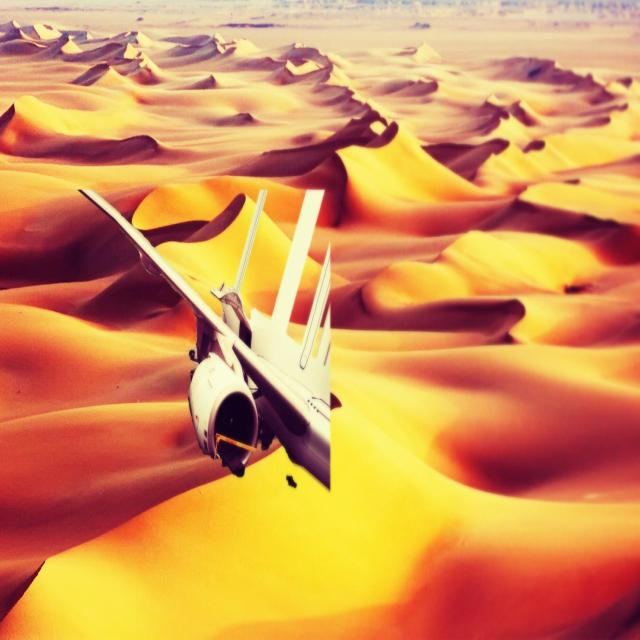airplane: (77, 186, 331, 490)
